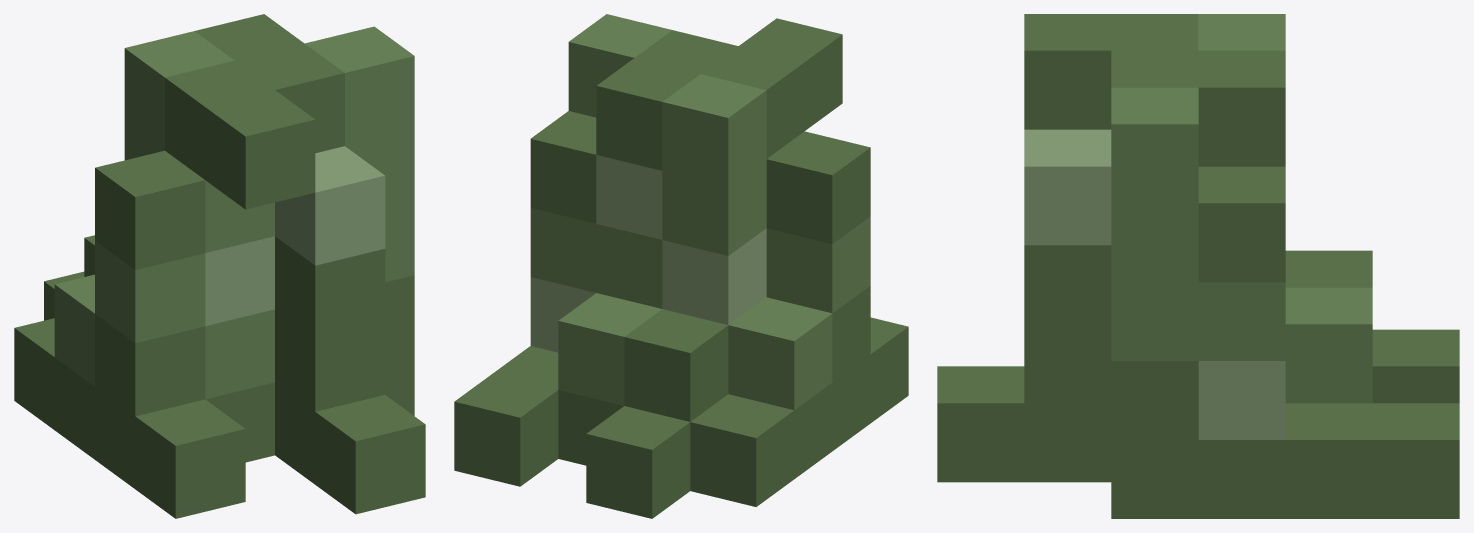
File: alian_1-2.obj
3 renders of one model, left to right at view 1: azimuth 30°, elevation 25°; view 2: azimuth 150°, elevation 25°; view 3: azimuth 270°, elevation 25°, orthographic. The views are drawn at different scales.
Bounding box in the file's own units: 0.4 × 0.5 × 0.6.
Materials: 1 (1 with a texture image).
